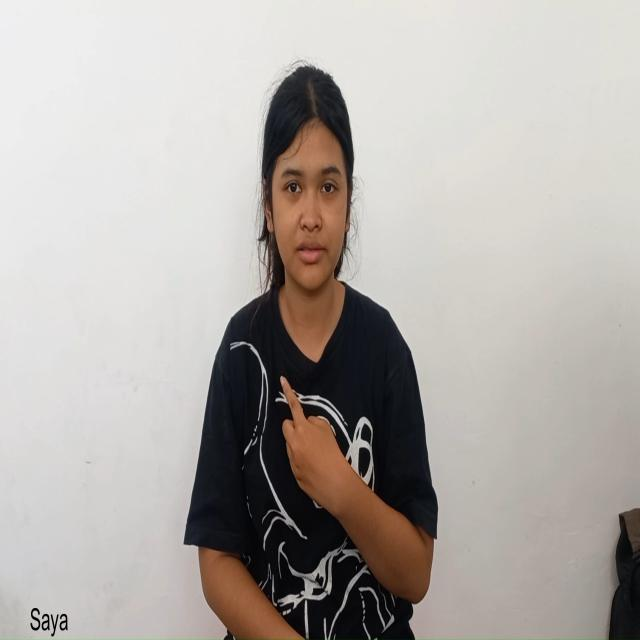Saya -BISINDO-: (278, 373, 434, 604)
